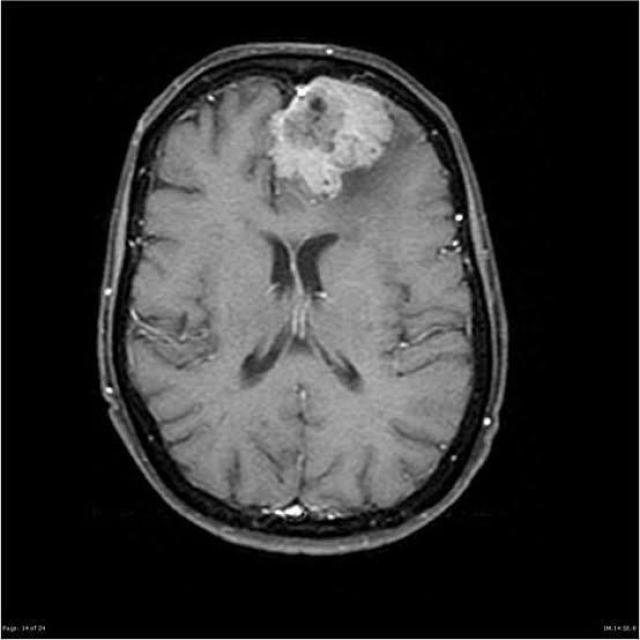Tumor: (274, 76, 395, 194)
